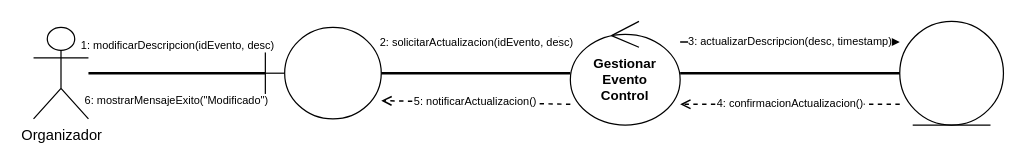
The diagram is 1025 pixels wide and 166 high, and some of its shapes have lost their labels. Each missing label, with the box of its shape:
Evento: (899, 20, 1003, 125)
Pantalla Organizador: (264, 26, 381, 119)
